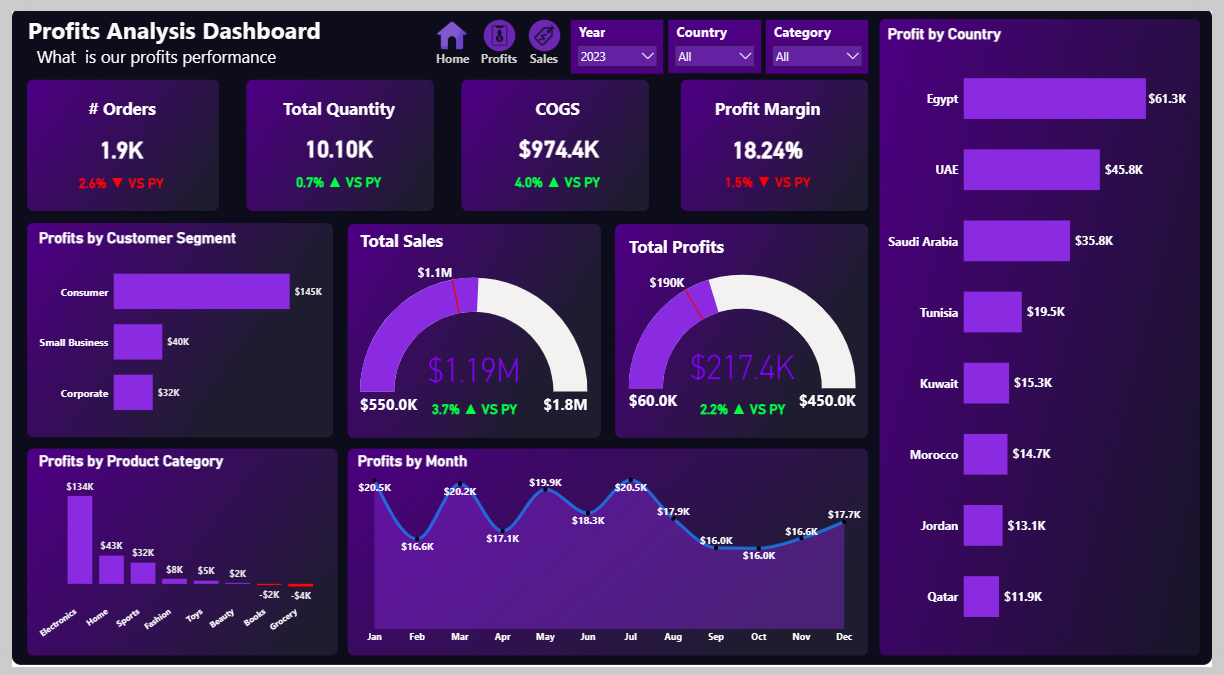

The page's visual inventory and layout, read from the dashboard file:
{"tool":"powerbi","page":{"name":"Profits Dashboard","canvas":[1920,1050],"ordinal":2},"visuals":[{"type":"textbox","box":[20,0,525,106.7],"z":0},{"type":"card","fields":{"Values":["AllMeasures.#Orders"]},"box":[20,108,310,222],"z":1000},{"type":"textbox","box":[114,132,124,50],"z":2000},{"type":"card","fields":{"Values":["AllMeasures.TotalQuantity"]},"box":[368,106,310,222],"z":3000},{"type":"textbox","box":[428,132,190,50],"z":4000},{"type":"card","fields":{"Values":["AllMeasures (2).COGS"]},"box":[720,106,310,222],"z":5000},{"type":"textbox","box":[778,132,190,50],"z":6000},{"type":"card","fields":{"Values":["AllMeasures (2).Profit Margin"]},"box":[1054,108,310,222],"z":7000},{"type":"textbox","box":[1114,132,190,50],"z":8000},{"type":"gauge","title":"Total Sales","fields":{"TargetValue":["AllMeasures.SalesTarget"],"MinValue":["AllMeasures.MinGauage"],"MaxValue":["AllMeasures.MaxGauage"],"Y":["AllMeasures.TotalSales"]},"box":[552,348,374,316],"z":9000},{"type":"gauge","title":"Total Profits","fields":{"Y":["AllMeasures.TotalProfits"],"TargetValue":["AllMeasures.ProfitsTarget"],"MinValue":["AllMeasures.MinProfitsGauage"],"MaxValue":["AllMeasures.MaxProfitsGauage"]},"box":[982,348,380,336],"z":10000},{"type":"clusteredColumnChart","title":"Profits by Year","fields":{"Category":["Dim_Date.Year"],"Y":["AllMeasures.TotalProfits"]},"box":[38,348,470,332],"z":11000},{"type":"lineChart","title":"Profits by Month","fields":{"Category":["Dim_Date.Month Name"],"Y":["AllMeasures.TotalProfits"]},"box":[548,706,816,316],"z":12000},{"type":"clusteredColumnChart","title":"Profits by Product Category","fields":{"Category":["Dim_Product.Category"],"Y":["AllMeasures.TotalProfits"]},"box":[38,706,470,316],"z":13000},{"type":"slicer","fields":{"Values":["Dim_Product.Category"]},"box":[1206,14,164,86],"z":15000},{"type":"slicer","fields":{"Values":["Dim_Date.Year"]},"box":[894,14,148,86],"z":16000},{"type":"clusteredBarChart","title":"Profit by Country","fields":{"Category":["Dim_Customer.Country"],"Y":["AllMeasures.TotalProfits"]},"box":[1395.1,21.6,487.2,1001.3],"z":17000},{"type":"image","box":[653.7,14.3,100,50],"z":18000,"group":"g3"},{"type":"group","id":"g1","title":"Group 2","box":[800.4,14.3,102,102],"z":18000},{"type":"group","id":"g2","title":"Group 3","box":[727,14.3,102,102],"z":19000},{"type":"group","id":"g3","title":"Group 4","box":[653.7,14.3,102,102],"z":20000},{"type":"image","box":[729,14.3,100,50],"z":20000,"group":"g2"},{"type":"image","box":[802.4,14.3,100,50],"z":21000,"group":"g1"},{"type":"card","fields":{"Values":["AllMeasures.OrdersNumYOYpct"]},"box":[58,242,234,66],"z":21000},{"type":"textbox","box":[653.7,58.3,102,58],"z":22000,"group":"g3"},{"type":"card","fields":{"Values":["AllMeasures.T.QuantityYOYpct"]},"box":[414,240,218,66],"z":22000},{"type":"textbox","box":[727,58.3,102,58],"z":23000,"group":"g2"},{"type":"card","fields":{"Values":["AllMeasures.COGSYOYpct"]},"box":[764,240,218,66],"z":23000},{"type":"textbox","box":[800.4,58.3,102,58],"z":24000,"group":"g1"},{"type":"card","fields":{"Values":["AllMeasures.ProfitMarginYOYpct"]},"box":[1100,240,218,66],"z":24000},{"type":"card","fields":{"Values":["AllMeasures.T.SalesYOYpct"]},"box":[664,610,180,54],"z":25000},{"type":"card","fields":{"Values":["AllMeasures.TotalProfitspct"]},"box":[1082,610,180,54],"z":26000},{"type":"slicer","fields":{"Values":["Dim_Customer.Country"]},"box":[1049.7,14.3,148.5,85.9],"z":26001}]}

Visuals, with their boxes in screenshot pixels (x1, y1, x2, y2), scaled from the page's 1920x1050 canvas onto the 1224x675 screenshot:
textbox: 13/0/347/69
card - AllMeasures.#Orders: 13/69/210/212
textbox: 73/85/152/117
card - AllMeasures.TotalQuantity: 235/68/432/211
textbox: 273/85/394/117
card - AllMeasures (2).COGS: 459/68/657/211
textbox: 496/85/617/117
card - AllMeasures (2).Profit Margin: 672/69/870/212
textbox: 710/85/831/117
"Total Sales" gauge: 352/224/590/427
"Total Profits" gauge: 626/224/868/440
"Profits by Year" clusteredColumnChart: 24/224/324/437
"Profits by Month" lineChart: 349/454/870/657
"Profits by Product Category" clusteredColumnChart: 24/454/324/657
slicer - Dim_Product.Category: 769/9/873/64
slicer - Dim_Date.Year: 570/9/664/64
"Profit by Country" clusteredBarChart: 889/14/1200/658
image: 417/9/480/41
"Group 2" group: 510/9/575/75
"Group 3" group: 463/9/528/75
"Group 4" group: 417/9/482/75
image: 465/9/528/41
image: 512/9/575/41
card - AllMeasures.OrdersNumYOYpct: 37/156/186/198
textbox: 417/37/482/75
card - AllMeasures.T.QuantityYOYpct: 264/154/403/197
textbox: 463/37/528/75
card - AllMeasures.COGSYOYpct: 487/154/626/197
textbox: 510/37/575/75
card - AllMeasures.ProfitMarginYOYpct: 701/154/840/197
card - AllMeasures.T.SalesYOYpct: 423/392/538/427
card - AllMeasures.TotalProfitspct: 690/392/805/427
slicer - Dim_Customer.Country: 669/9/764/64
